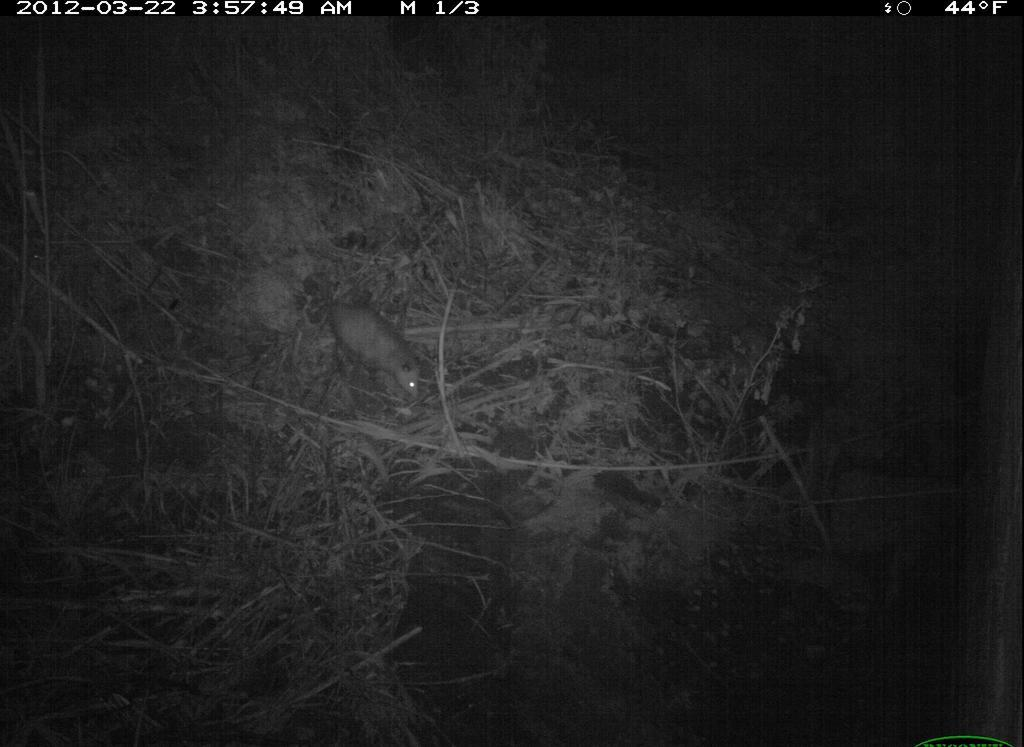opossum: (300, 268, 425, 404)
